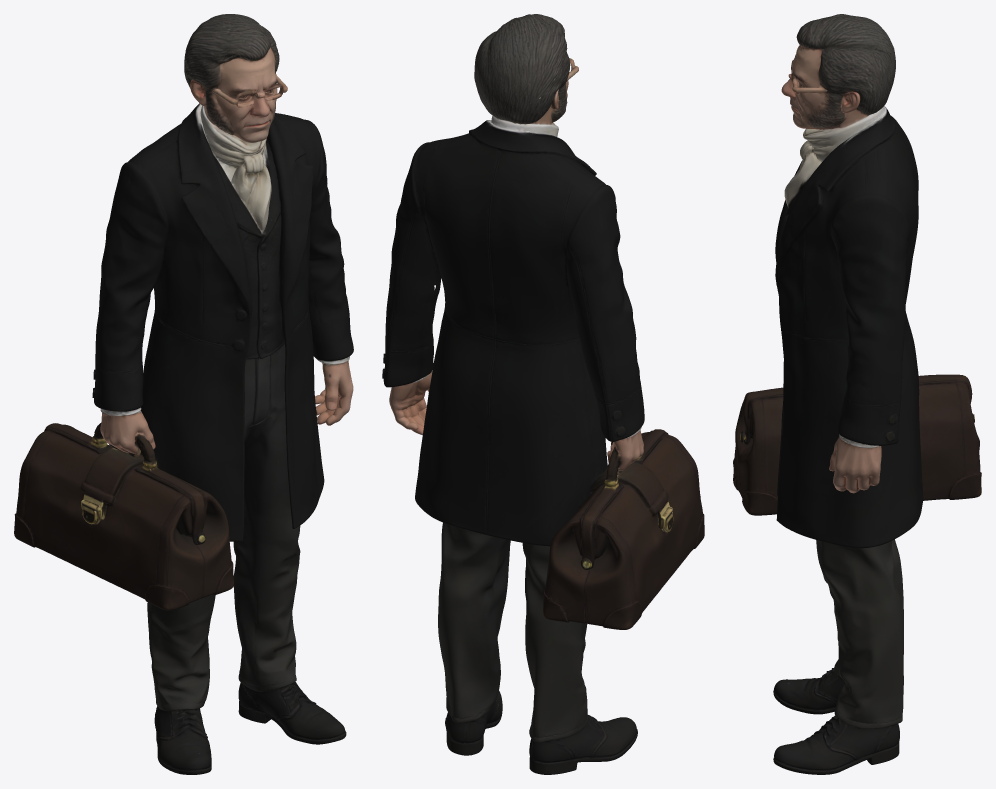
The model's file is doctor.glb.
The picture shows the model from 3 angles, left to right: view 1: azimuth 30°, elevation 25°; view 2: azimuth 150°, elevation 25°; view 3: azimuth 270°, elevation 25°; orthographic projection.
Parts seen in each view (by area): view 1: mesh; view 2: mesh; view 3: mesh.
Part boxes in pixels (bbox=[...]): mesh: bbox=[14, 14, 353, 774]; mesh: bbox=[382, 14, 704, 774]; mesh: bbox=[733, 14, 981, 774].
Size of the model in its own units: 0.7314 by 1.75 by 0.5502.
1 material, 1 textured.
